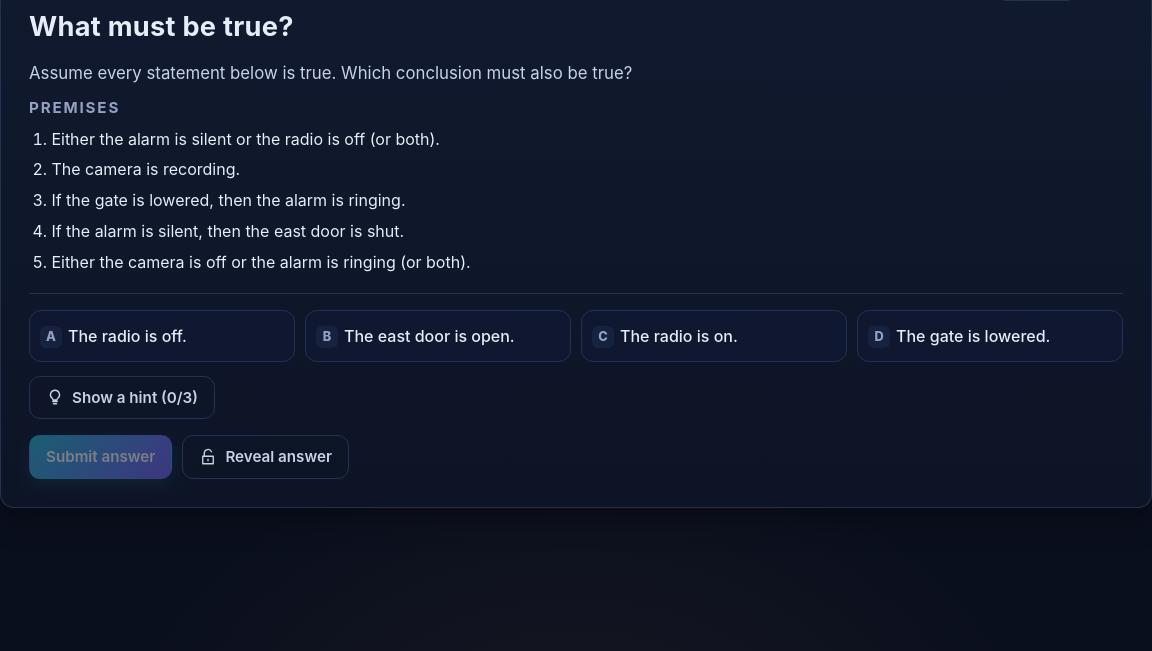
Test: puzzle player › marks a wrong choice and still explains the answer
Click the radio button labelled "B The east door is open." at coordinates (438, 336), box left=305, top=310, right=571, bottom=362
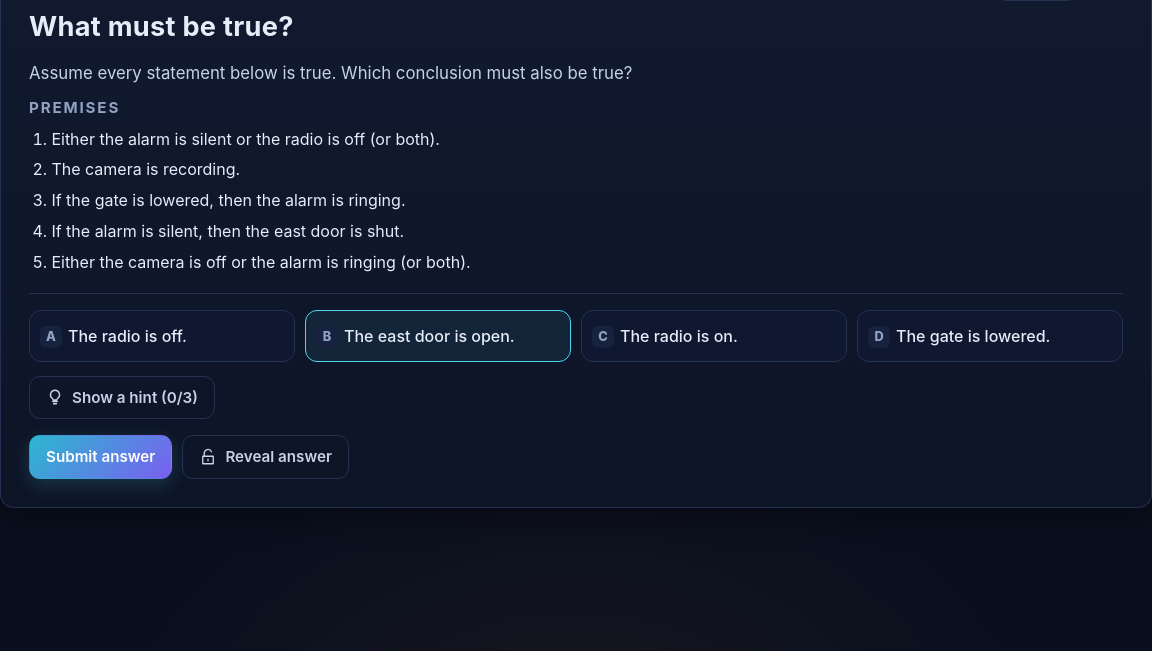
Click the button "Submit answer" at coordinates (101, 457), box left=29, top=435, right=172, bottom=479
(page scrolled)
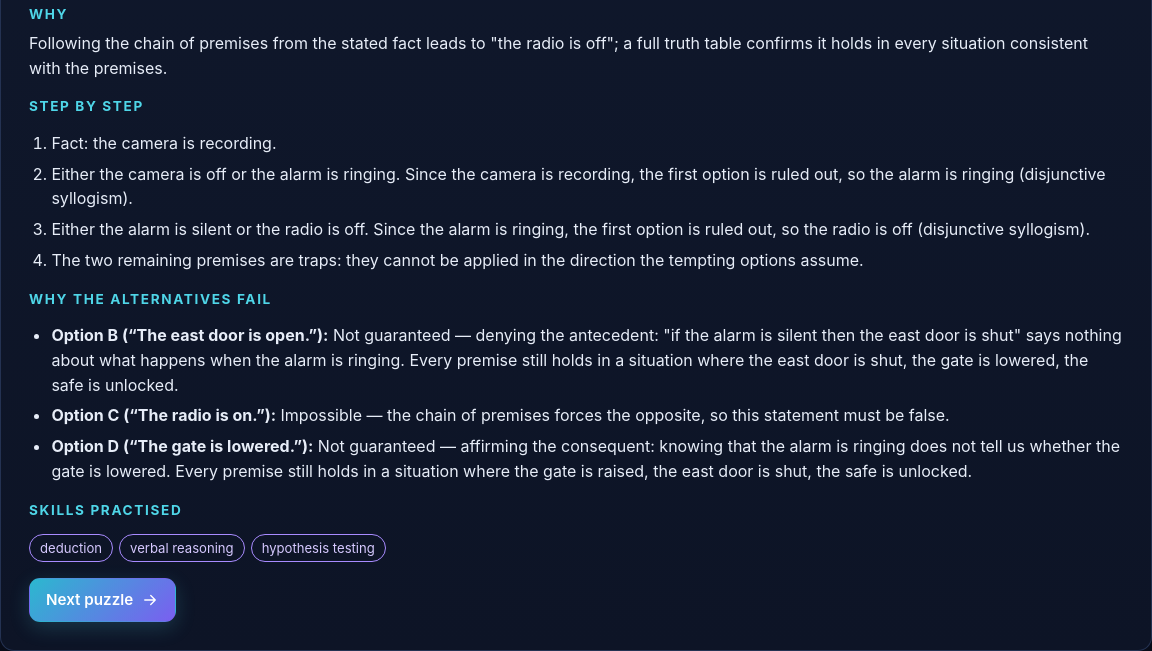
Now the heading "Step by step" is shown, box left=29, top=98, right=144, bottom=114
